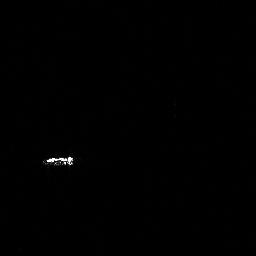ship: (46, 154, 74, 167)
